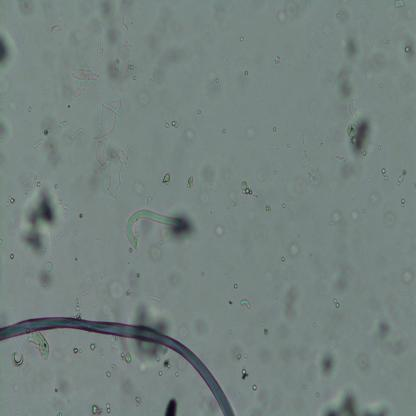Background material: (11, 185, 59, 258), (92, 264, 144, 318), (320, 386, 396, 416), (346, 95, 375, 159), (94, 96, 126, 140), (154, 43, 190, 81), (107, 145, 130, 202), (242, 385, 274, 416), (71, 65, 100, 99), (40, 137, 65, 176), (135, 339, 165, 370), (136, 304, 171, 329), (31, 260, 59, 291), (276, 0, 303, 29), (28, 332, 52, 364), (363, 48, 387, 80), (339, 35, 363, 66), (0, 32, 18, 72), (333, 2, 357, 32), (333, 261, 356, 291), (397, 30, 416, 63), (106, 59, 126, 88), (282, 286, 298, 322), (336, 159, 360, 182), (336, 76, 356, 103), (165, 268, 185, 294), (318, 352, 338, 378), (201, 167, 220, 192), (94, 0, 114, 22), (93, 141, 109, 167), (285, 238, 302, 262), (378, 208, 396, 230), (0, 117, 12, 149), (374, 318, 392, 339), (53, 380, 71, 400), (135, 89, 153, 109), (194, 316, 212, 335), (116, 374, 134, 393), (398, 264, 416, 282), (225, 187, 240, 208), (19, 0, 40, 15), (117, 14, 133, 33), (232, 346, 250, 362), (164, 398, 180, 416), (352, 355, 370, 371), (9, 350, 24, 368), (300, 147, 313, 167), (107, 334, 121, 352), (240, 180, 254, 198), (365, 190, 380, 206), (210, 225, 226, 240), (49, 22, 65, 37), (328, 212, 342, 229), (348, 206, 362, 223), (105, 33, 122, 47), (147, 63, 157, 86), (183, 129, 197, 143), (121, 38, 134, 53), (123, 59, 136, 73), (396, 168, 406, 186), (238, 364, 249, 380), (245, 124, 255, 141), (120, 352, 133, 365), (264, 270, 275, 285), (296, 131, 306, 146), (31, 173, 41, 188), (178, 327, 190, 339), (163, 359, 174, 372), (92, 403, 103, 415), (163, 171, 171, 187), (381, 166, 389, 182), (392, 1, 406, 10), (305, 173, 316, 184), (397, 194, 407, 206), (382, 34, 392, 46), (89, 342, 99, 353), (6, 197, 16, 208), (187, 176, 196, 188), (261, 205, 274, 213), (133, 396, 142, 407), (105, 402, 113, 414), (334, 153, 344, 162), (332, 298, 340, 308), (316, 138, 324, 148), (170, 119, 178, 128), (272, 57, 281, 65), (72, 346, 79, 356), (163, 120, 170, 130), (238, 32, 245, 42), (12, 383, 18, 394), (262, 328, 270, 336), (78, 211, 86, 219), (242, 68, 249, 76), (65, 395, 71, 404), (214, 76, 221, 83), (105, 370, 111, 378), (280, 203, 286, 211), (232, 281, 238, 289), (302, 383, 308, 390), (314, 391, 321, 397), (111, 363, 116, 371), (279, 257, 287, 262), (378, 83, 384, 89), (271, 170, 276, 177), (219, 128, 226, 133), (176, 370, 180, 378), (132, 74, 136, 82), (228, 300, 233, 306), (227, 328, 233, 333), (272, 126, 277, 132), (362, 207, 366, 214), (197, 107, 201, 114), (57, 411, 62, 416), (313, 320, 316, 328), (376, 146, 382, 150), (160, 370, 163, 377), (253, 386, 257, 391), (286, 144, 290, 147)
Glass filter fibre: (124, 206, 186, 252), (92, 22, 104, 57), (68, 125, 85, 141), (75, 295, 84, 318), (146, 295, 163, 306), (240, 298, 251, 311), (32, 138, 43, 149), (26, 36, 33, 50)
Microfibre: (0, 315, 236, 415)
